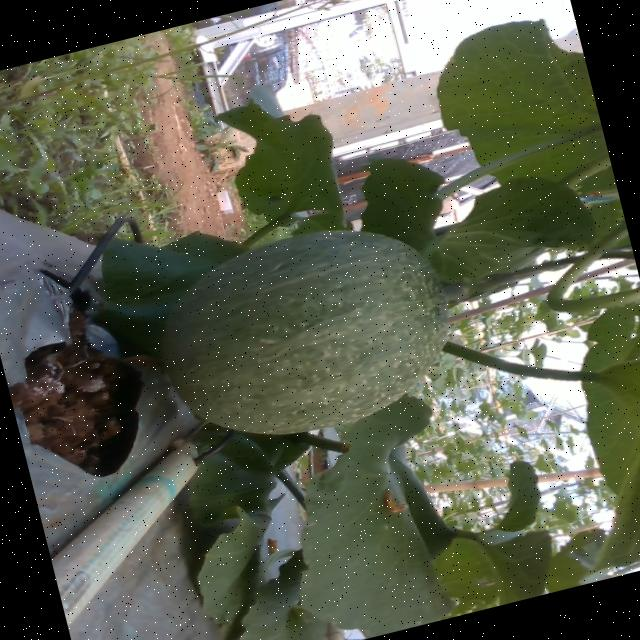melon: (164, 231, 446, 435)
